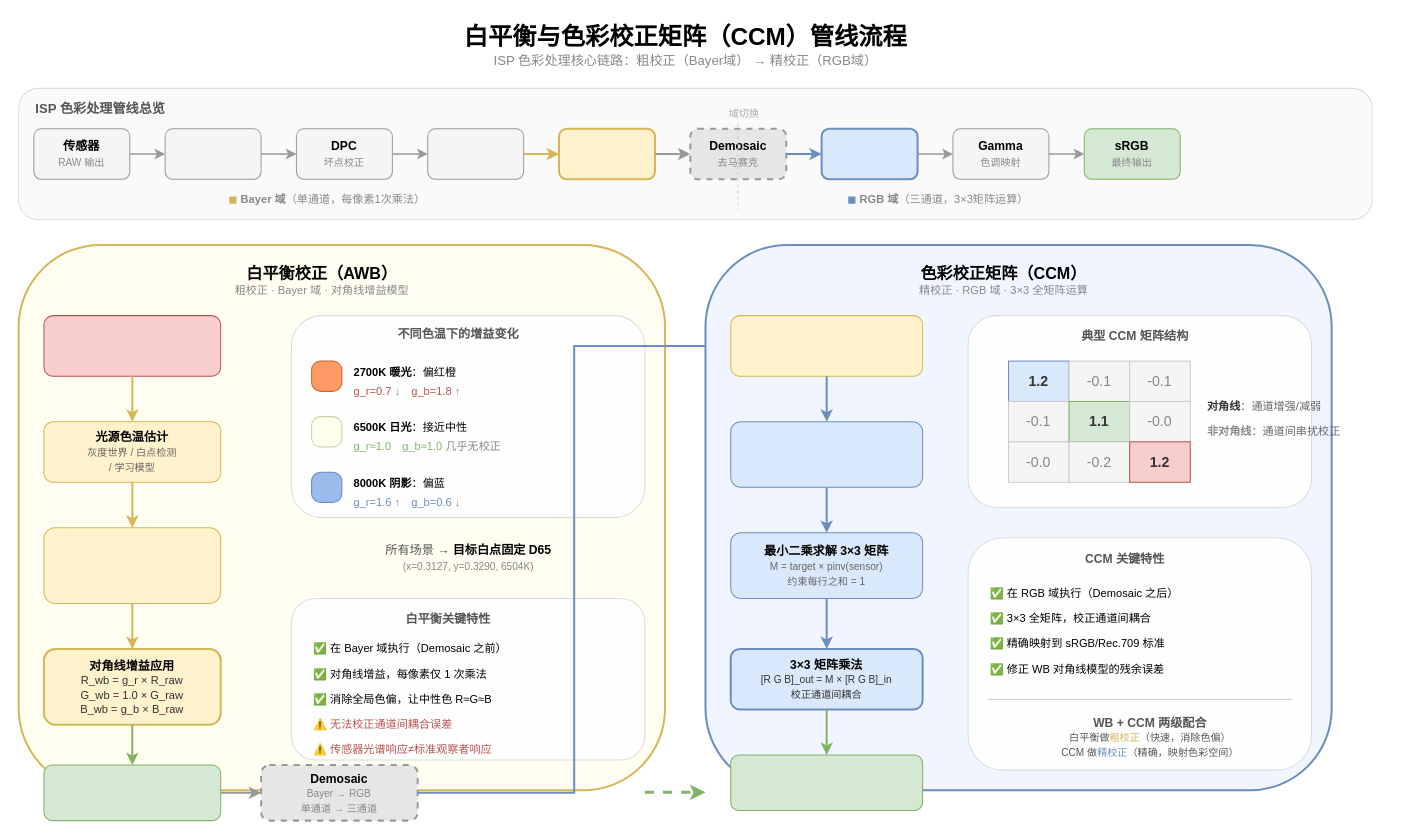
The diagram is 1424 pixels wide and 838 high, and some of its shapes have lost their labels. Here are the shapes that lost their labels. From the top down, the centre of each, then its label:
At [212,153]: "BLC 黑电平校正".
At [475,153]: "LSC 镜头阴影校正".
At [606,153]: "AWB 白平衡校正".
At [869,153]: "CCM 色彩校正矩阵".
At [132,345]: "Bayer RAW 数据 已完成 BLC/DPC/LSC R/G/B 通道比例失调".
At [826,345]: "Demosaic 后 RGB 白平衡已校正 但仍为传感器色彩空间".
At [826,454]: "ColorChecker 标定 拍摄24色/140色标准色卡 记录传感器RGB与标准Lab值".
At [132,565]: "计算通道增益 g_r = G_mean / R_mean g_b = G_mean / B_mean g_g = 1（基准）".
At [132,792]: "白平衡后 Bayer 中性色接近 R≈G≈B 全局色偏已消除".
At [826,782]: "标准 sRGB 色彩 色彩精确映射到 目标色彩空间（D65白点）".
